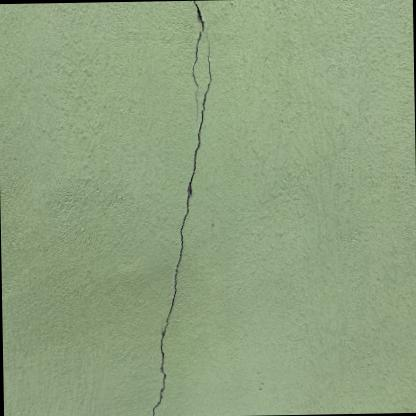crack: (152, 27, 211, 416), (192, 0, 203, 124)
